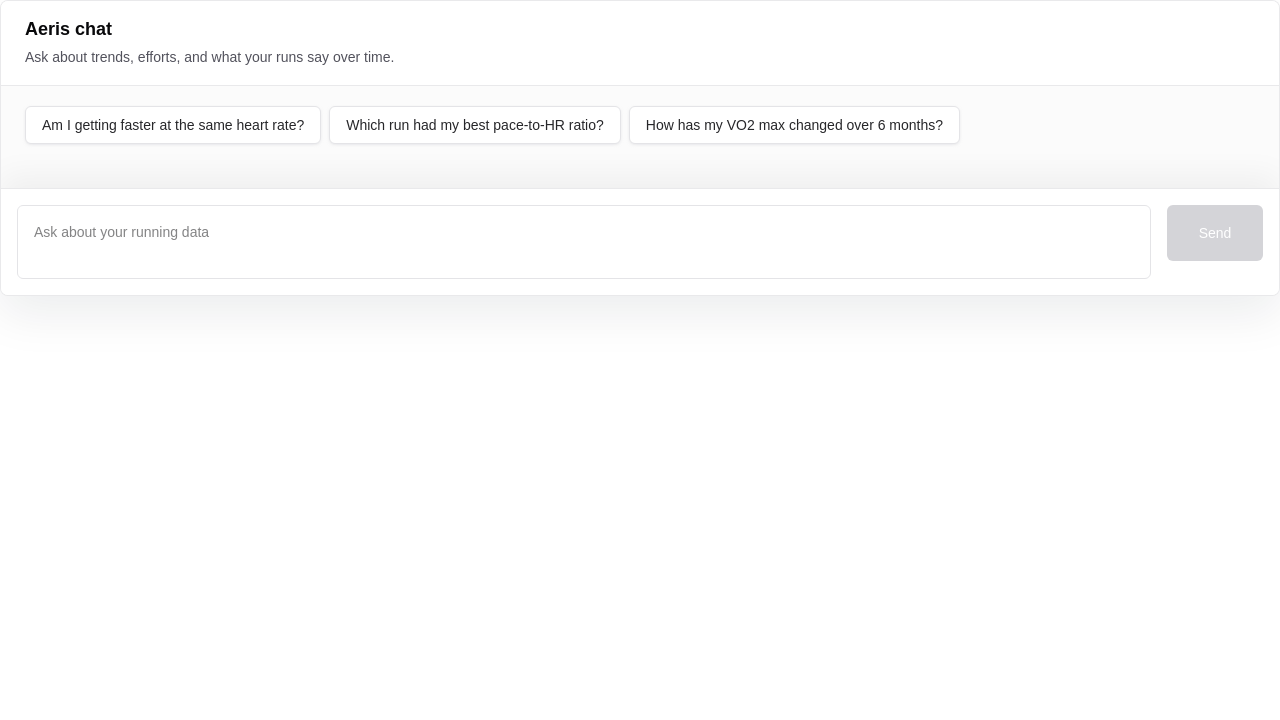
Test: ChatPanel › shows server-generated follow-up prompts after an assistant response completes
Step 1. Type "Am I getting faster at the same heart rate?" into the text box named "message" → (584, 242), box [17, 205, 1151, 279]
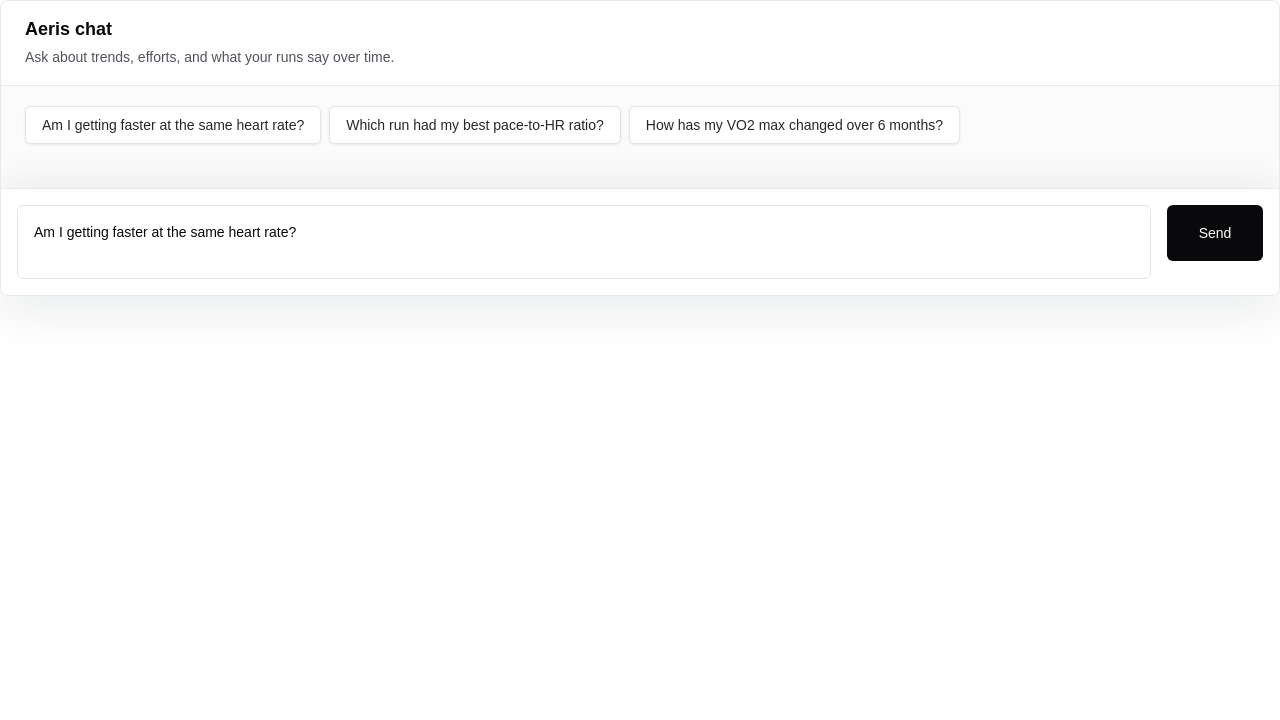
Step 2. Click the button "Send" → (1215, 233), box [1167, 205, 1263, 261]
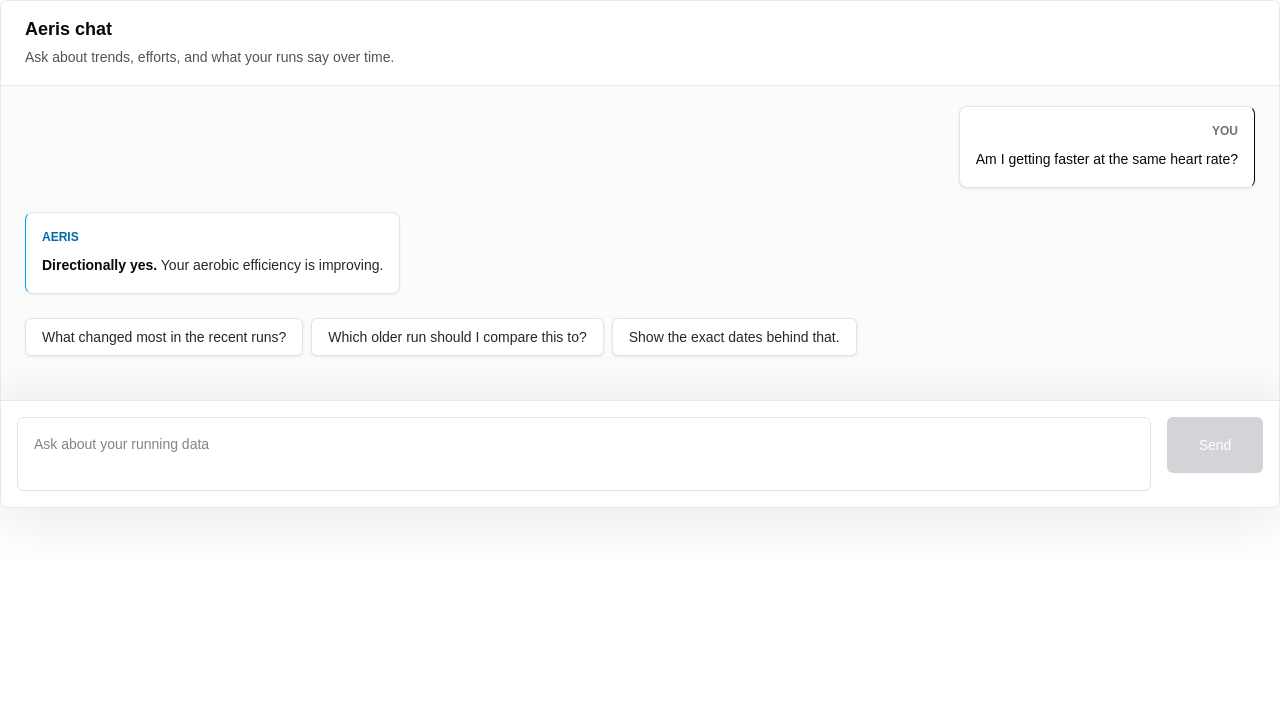
Check: the button with aria-label "quick reply: what changed most in the recent runs" is shown, box [25, 318, 303, 356]
Check: the button with aria-label "quick reply: which older run should i compare this to" is shown, box [311, 318, 604, 356]
Check: the button with aria-label "quick reply: show the exact dates behind that" is shown, box [612, 318, 857, 356]
